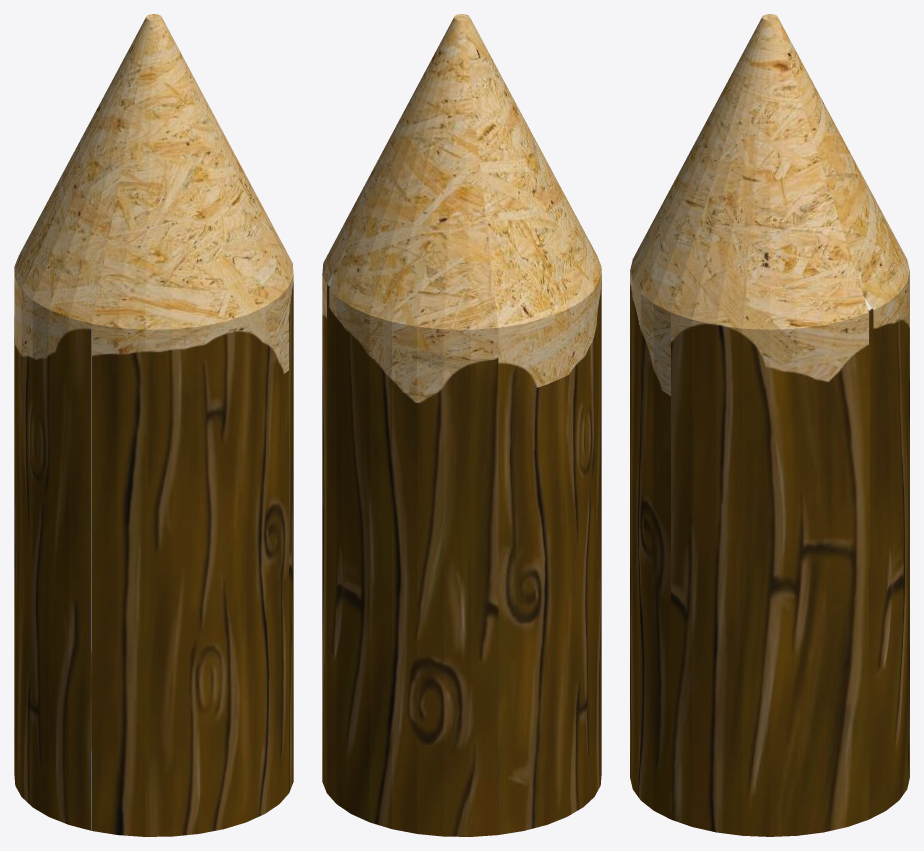
Rendered from Spike.fbx.
3 views of the same model, side by side, from view 1: azimuth 30°, elevation 25°; view 2: azimuth 150°, elevation 25°; view 3: azimuth 270°, elevation 25° (orthographic).
Visible parts, largest first — view 1: Cylinder; view 2: Cylinder; view 3: Cylinder.
Part boxes in pixels (x1,y1,x2,y2): Cylinder: [14, 14, 293, 836]; Cylinder: [322, 14, 601, 836]; Cylinder: [630, 14, 909, 836].
Bounding box in the file's own units: 200 × 600 × 200.
